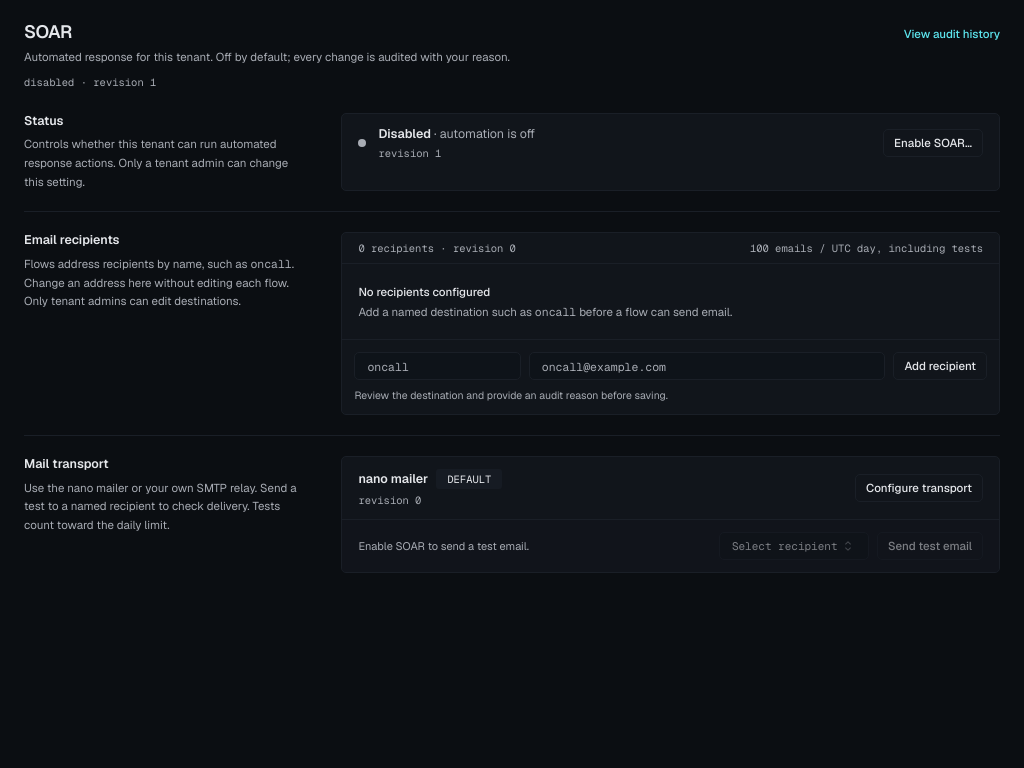
Test: 409 refetches the setting and asks the user to save again
Click the button "Enable SOAR…" at (933,143), box [883,129,983,157]
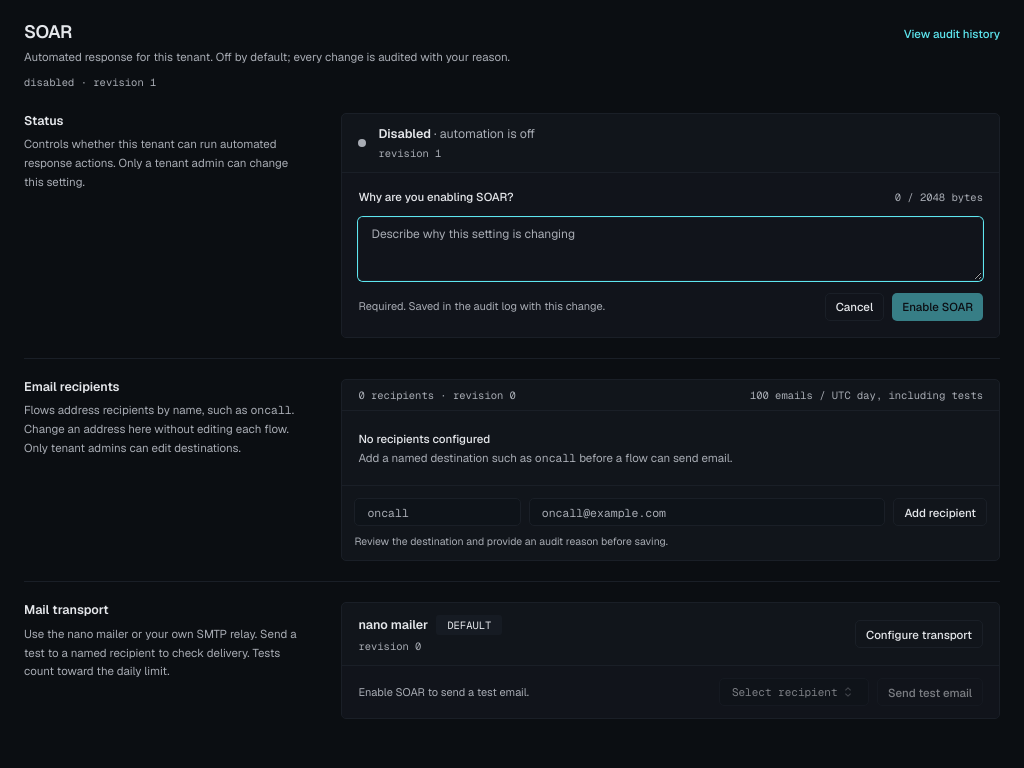
Type "Go live" into the text box named "Reason" at (671,249), box [358,217,983,281]
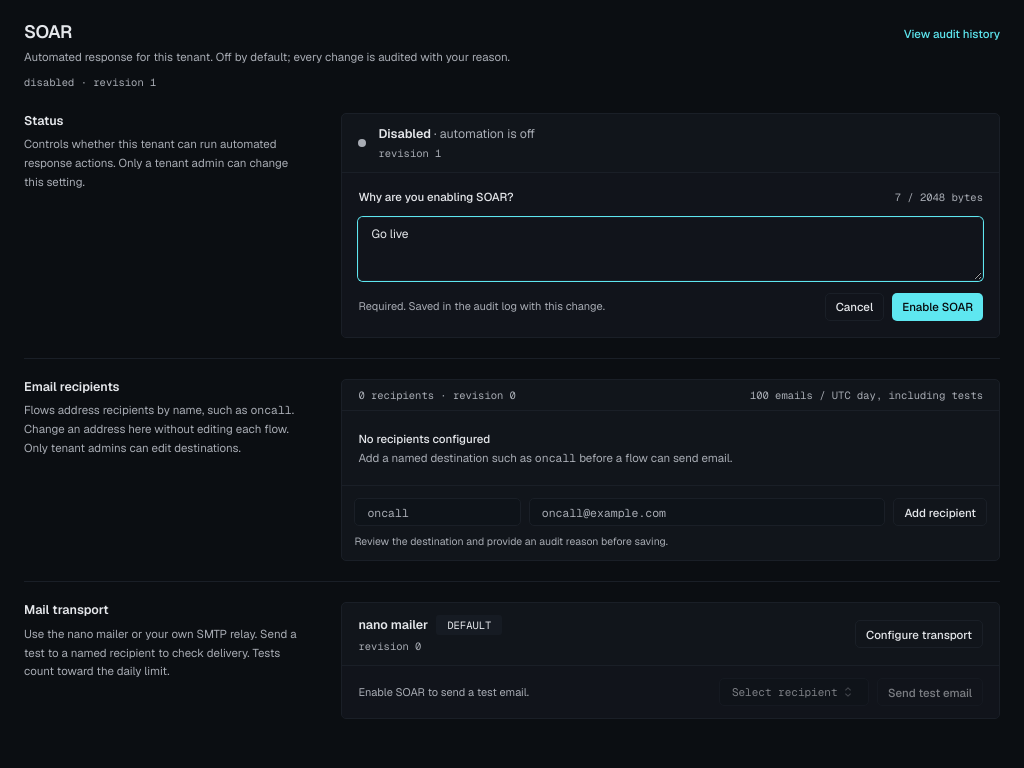
Check: the button "Enable SOAR" is enabled
Click the button "Enable SOAR" at (938,307), box [892,293,983,321]
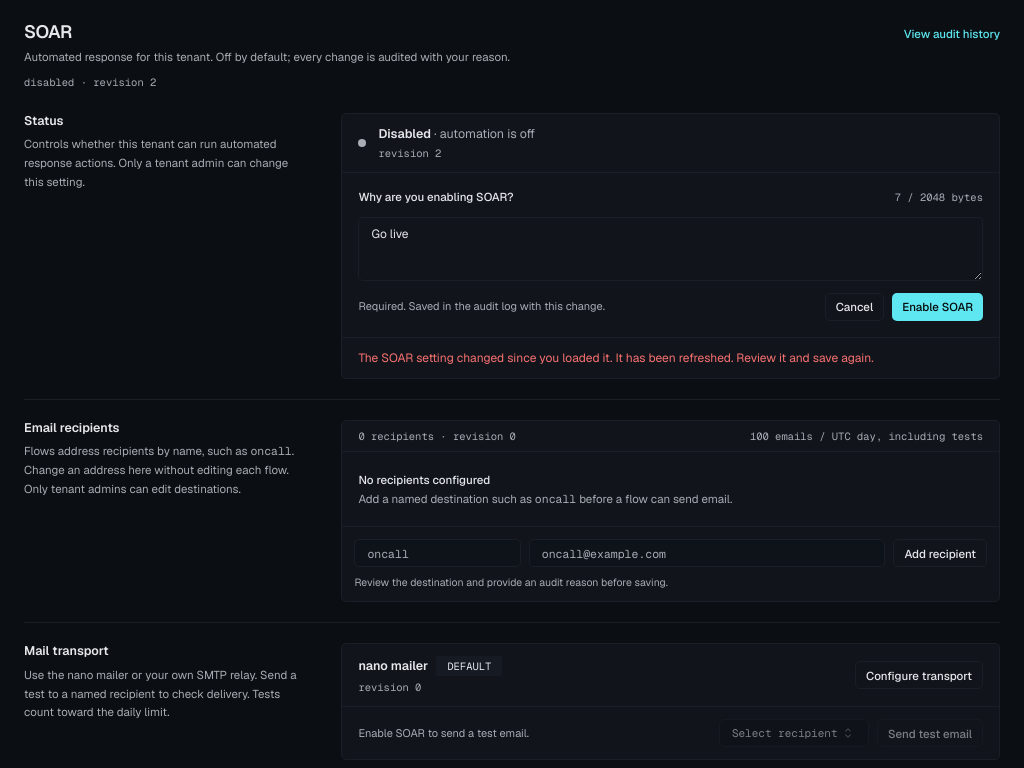
Check: the button "Enable SOAR" is enabled
Check: the text "disabled · revision 2" is shown, box [24,75,156,89]
Click the button "Enable SOAR" at (938,307), box [892,293,983,321]
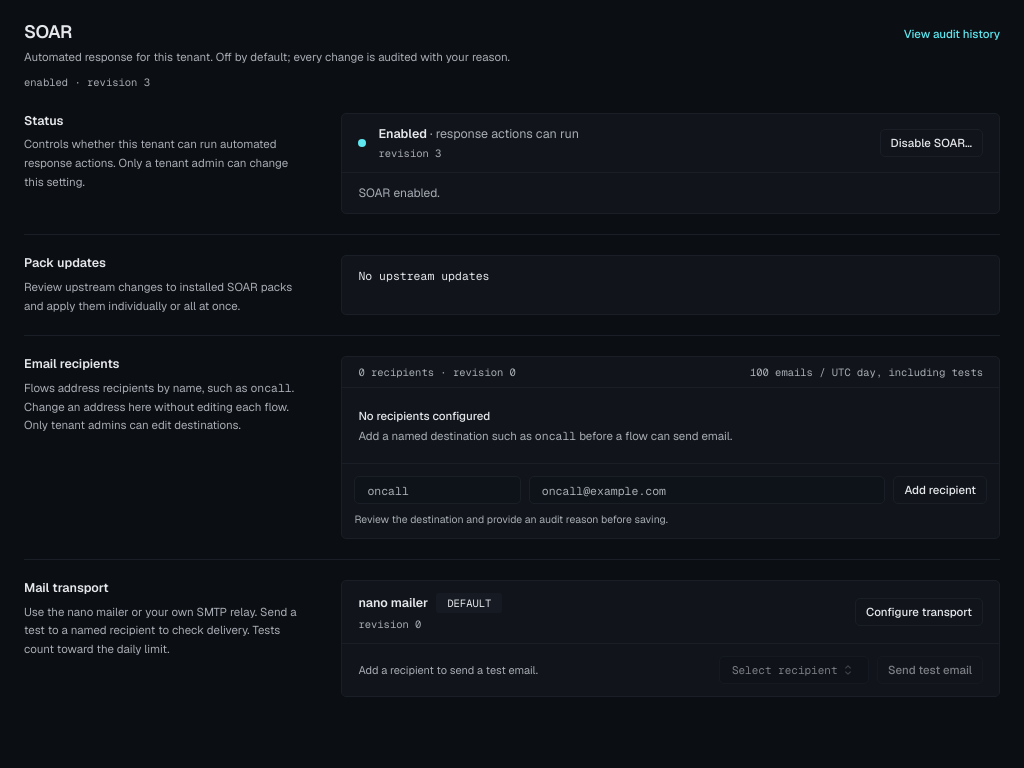
Check: the text "SOAR enabled." is shown, box [342,172,999,213]
